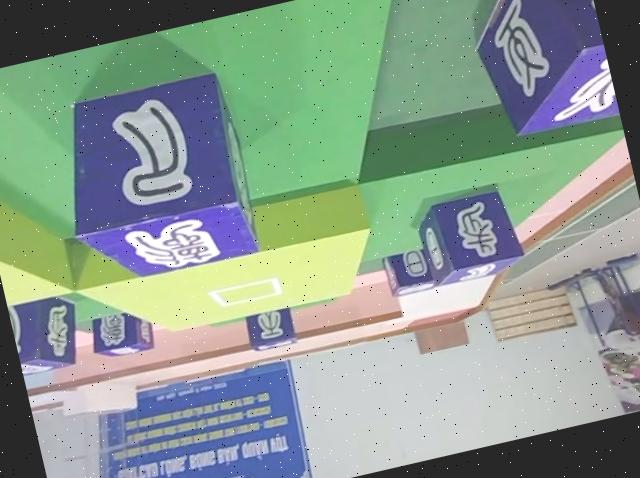R2 Fake Blue: (46, 64, 268, 296), (455, 0, 620, 146), (414, 181, 530, 286), (6, 286, 84, 380), (86, 307, 158, 364), (381, 245, 441, 299), (243, 304, 300, 353)
